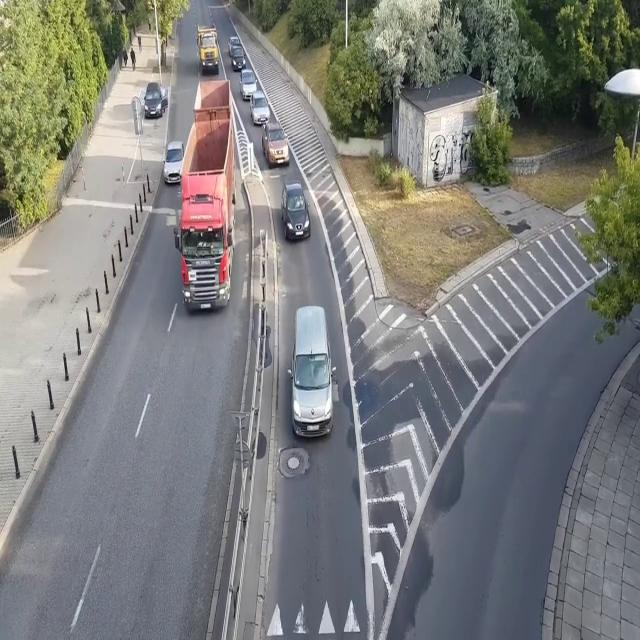car: (281, 180, 311, 242), (261, 122, 290, 167), (162, 140, 186, 184), (143, 82, 168, 119), (249, 90, 271, 127), (239, 69, 258, 101), (231, 45, 246, 71), (228, 36, 241, 58)
truck: (173, 80, 237, 312), (197, 22, 220, 75)
van: (286, 304, 336, 439)
